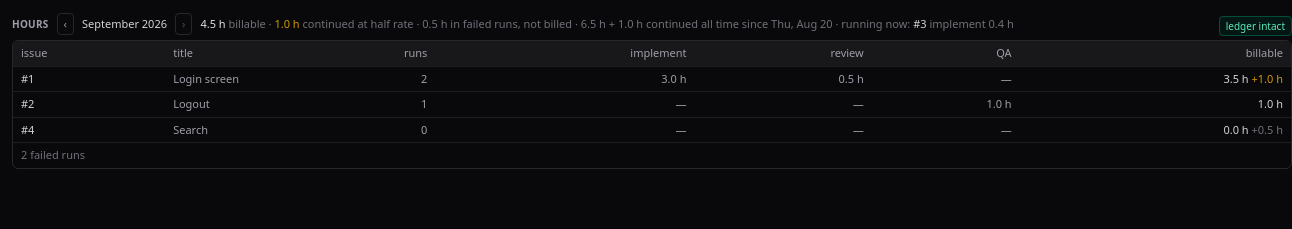
Test: HoursPanel › shows the month’s billable hours by issue, the failed runs under a fold, and what runs now
The width and height of the screenshot is (1292, 229).
Expected: the text "4.5 h" is shown, [200, 16, 226, 31]
Expected: the text "6.5 h" is shown, [581, 16, 606, 31]
Click the heading "2 failed runs". click: (53, 154)
box: [21, 147, 85, 162]
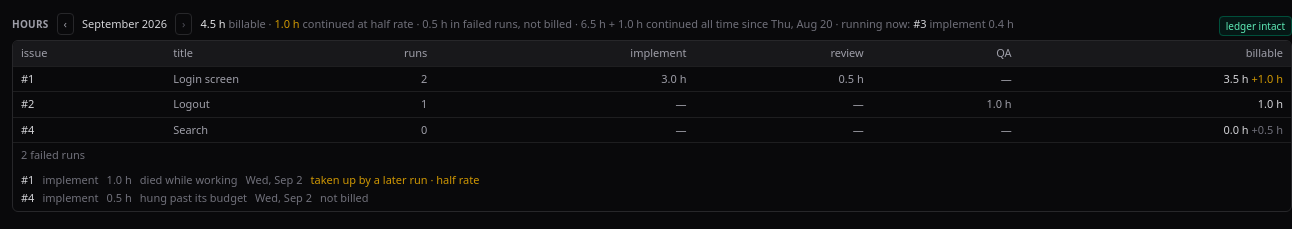
Expected: the text "died while working" is shown, [140, 172, 238, 188]
Expected: the text "taken up by a later run · half rate" is shown, [310, 172, 479, 188]
Expected: the text "hung past its budget" is shown, [140, 190, 247, 206]
